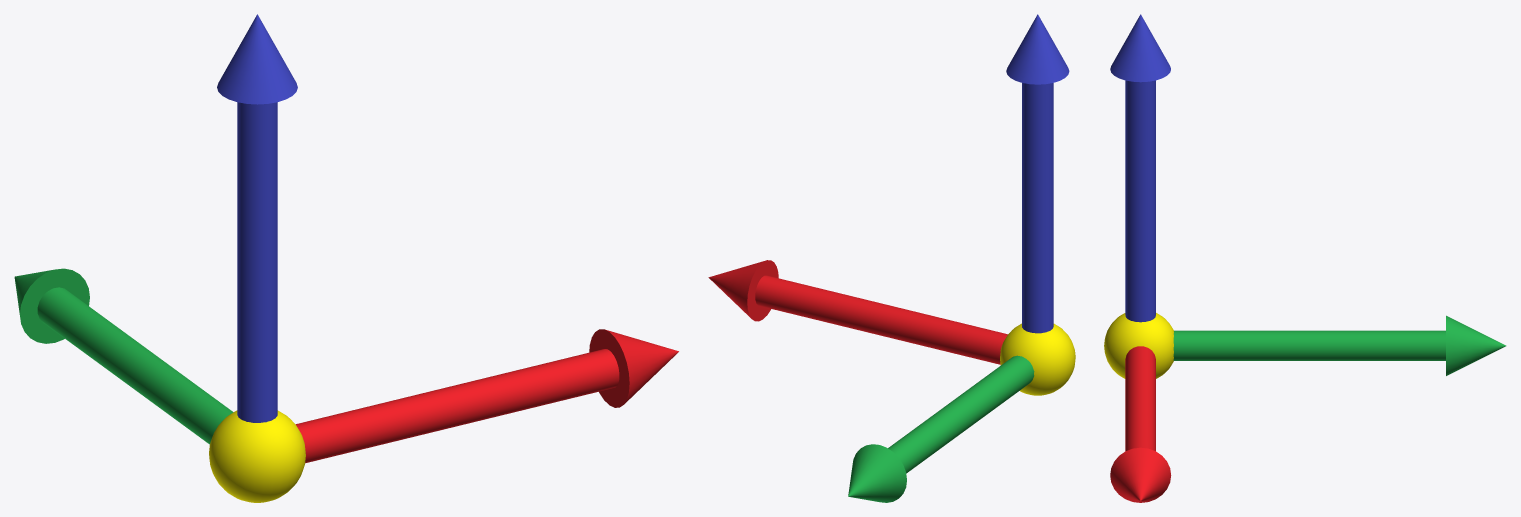
The model's file is coord.obj.
The picture shows the model from 3 angles, left to right: view 1: azimuth 30°, elevation 25°; view 2: azimuth 150°, elevation 25°; view 3: azimuth 270°, elevation 25°; orthographic projection. The views are drawn at different scales.
Visible parts, largest first — view 1: Cylinder003, Cylinder002, Cylinder001, Sphere001, Cone002, Cone003, Cone001; view 2: Cylinder003, Cylinder002, Cylinder001, Sphere001, Cone001, Cone002, Cone003; view 3: Cylinder001, Cylinder002, Cylinder003, Sphere001, Cone003, Cone002, Cone001.
Boxes of the visible parts, x1,y1,x2,y2 form: Cylinder003: (296,349,619,463); Cylinder002: (237,102,277,422); Cylinder001: (37,287,233,444); Sphere001: (209,410,305,502); Cone002: (217,14,297,104); Cone003: (589,329,678,407); Cone001: (14,268,89,343); Cylinder003: (755,275,1007,364); Cylinder002: (1022,83,1053,333); Cylinder001: (888,355,1034,473); Sphere001: (1000,323,1075,395); Cone001: (848,444,906,502); Cone002: (1006,14,1069,84); Cone003: (708,260,778,321); Cylinder001: (1173,330,1445,360); Cylinder002: (1125,80,1155,322); Cylinder003: (1125,346,1155,451); Sphere001: (1104,313,1173,378); Cone003: (1110,447,1171,502); Cone002: (1110,14,1170,82); Cone001: (1446,315,1506,375).
Bounding box in the file's own units: 1.32 × 1.32 × 1.32.
